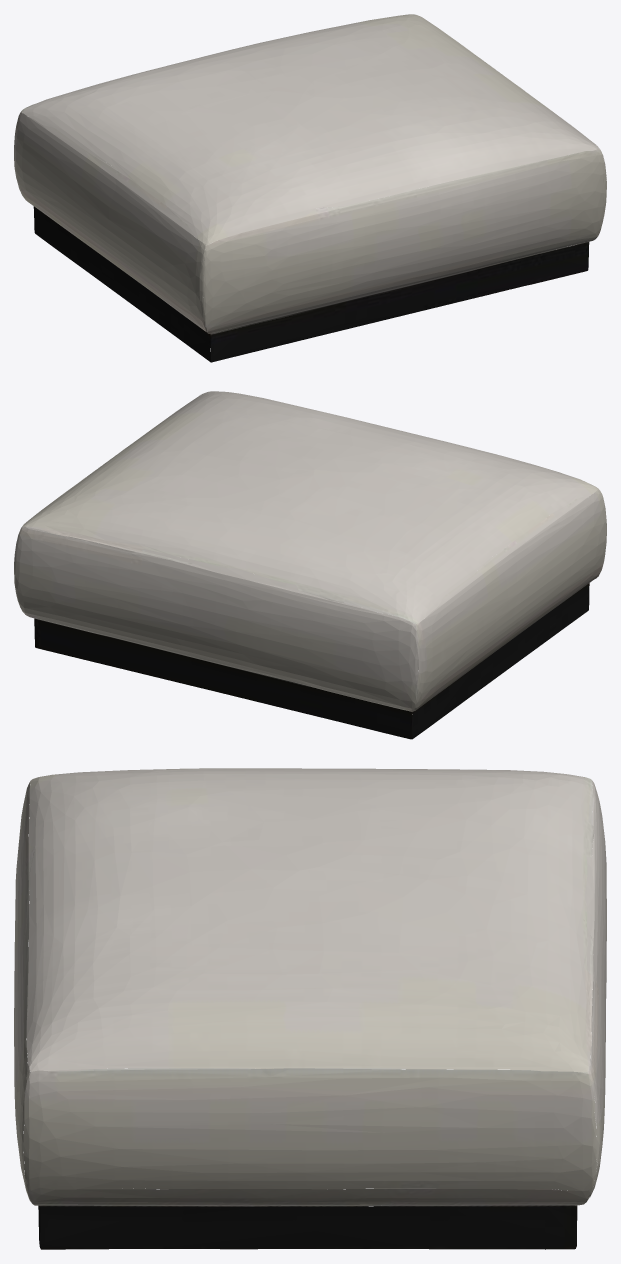
The model's file is s-pouf-creme.glb.
3 views of the same model, one above another, from view 1: azimuth 30°, elevation 25°; view 2: azimuth 150°, elevation 25°; view 3: azimuth 270°, elevation 25° (orthographic). The views are drawn at different scales.
Parts seen in each view (by area): view 1: geometry_0; view 2: geometry_0; view 3: geometry_0.
Boxes of the visible parts, x1=… form: geometry_0: x1=14, y1=14, x2=606, y2=362; geometry_0: x1=14, y1=391, x2=606, y2=739; geometry_0: x1=14, y1=768, x2=606, y2=1249.
Size of the model in its own units: 0.9994 by 0.3787 by 0.8236.
1 material, 1 textured.
